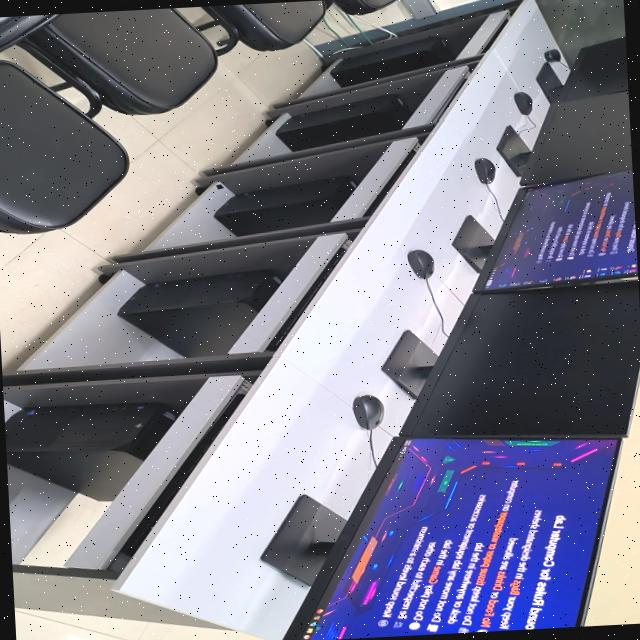Chair: (0, 56, 130, 234), (18, 7, 217, 116), (197, 0, 328, 55), (335, 0, 397, 14)
Cpu: (5, 402, 178, 500), (119, 269, 281, 356), (215, 176, 352, 235), (276, 94, 412, 150), (331, 37, 452, 86)
Keyboard: (120, 391, 245, 552), (265, 238, 349, 350)
Monitor: (262, 436, 621, 640), (383, 281, 640, 437), (452, 170, 638, 292), (498, 91, 632, 185), (537, 36, 628, 102)
Mouse: (354, 394, 384, 429), (408, 249, 434, 278), (475, 157, 495, 184), (515, 91, 533, 114), (545, 48, 561, 61)
